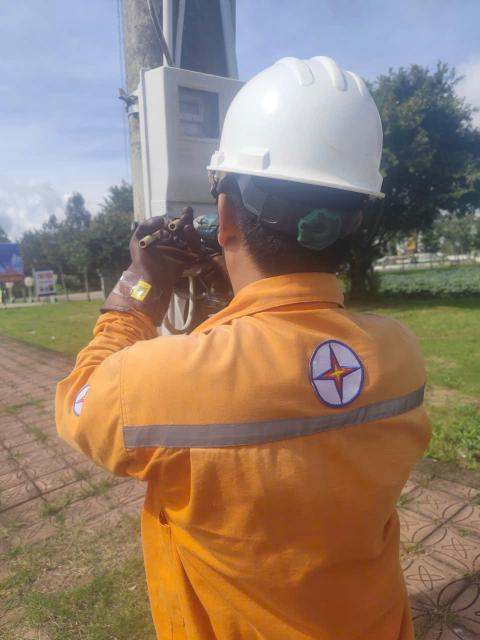gloves: (82, 208, 207, 315)
helmet: (205, 53, 396, 204)
